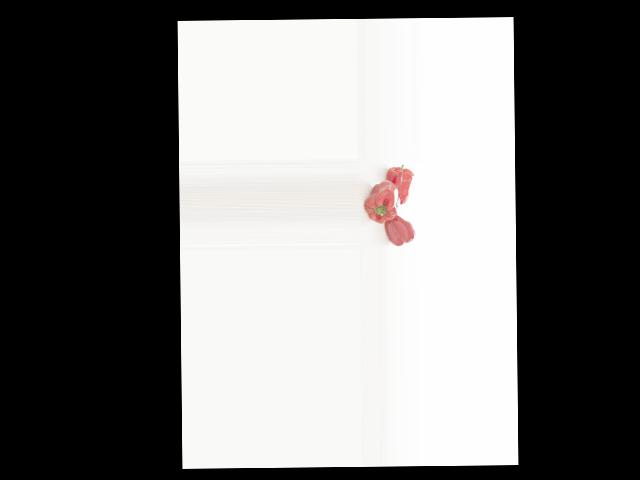bell_pepper: (383, 217, 415, 248)
